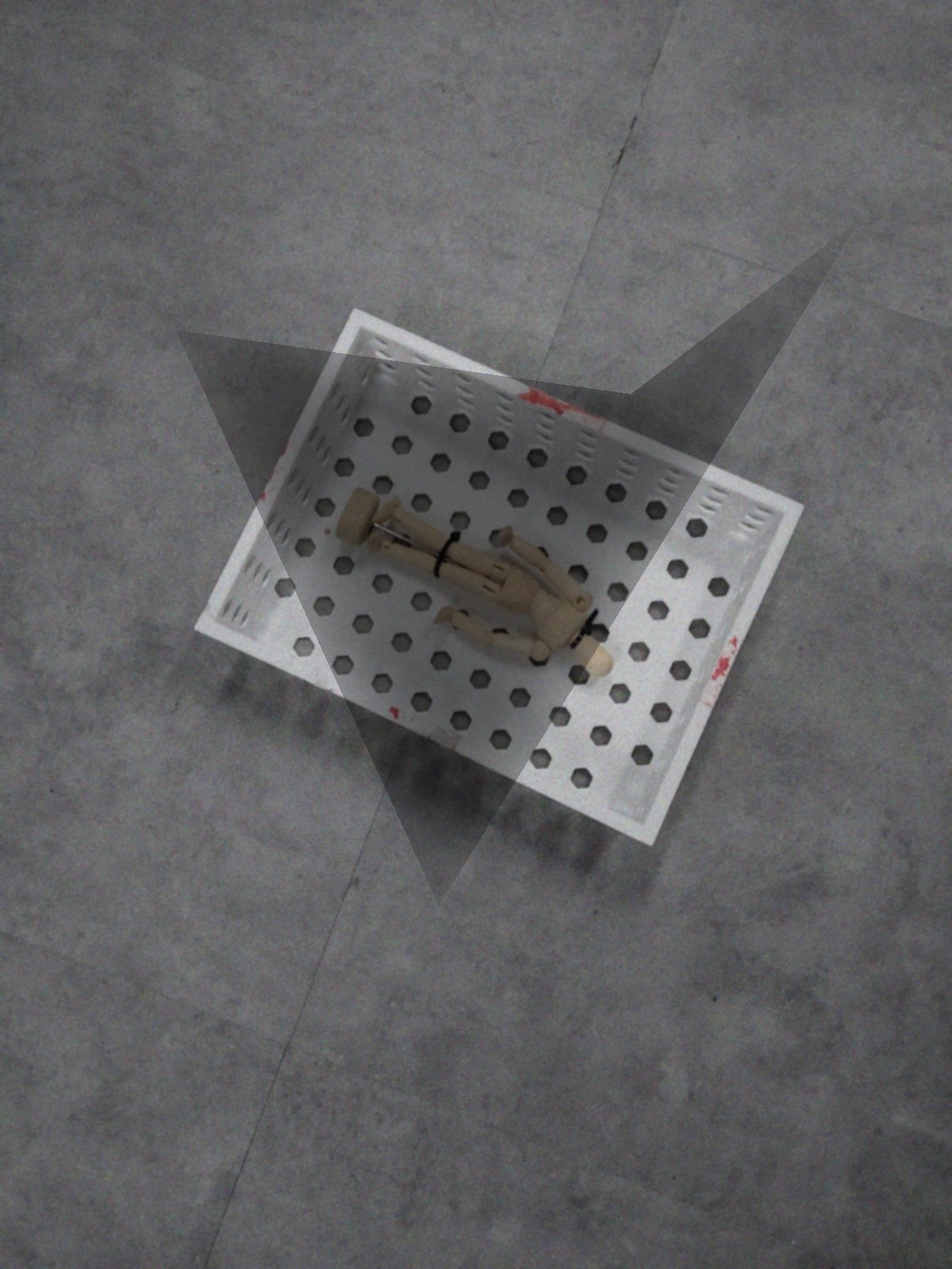basket: (187, 303, 809, 860)
mannequin: (329, 485, 621, 692)
